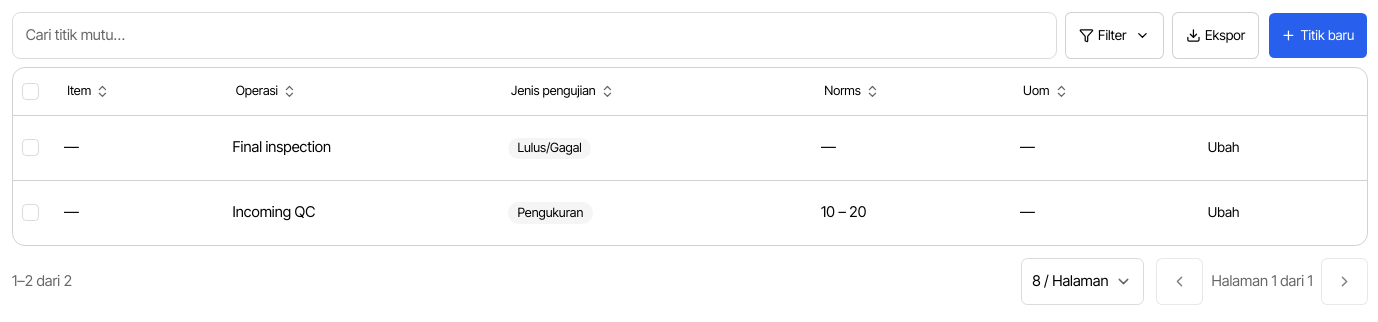
Test case: QualityPointsSection › filters points by search
Expected: the text "Final inspection" is shown, [224, 116, 500, 180]
Type "Incoming" into the search field with placeholder "Cari titik mutu…" at (534, 35), box [12, 12, 1057, 59]
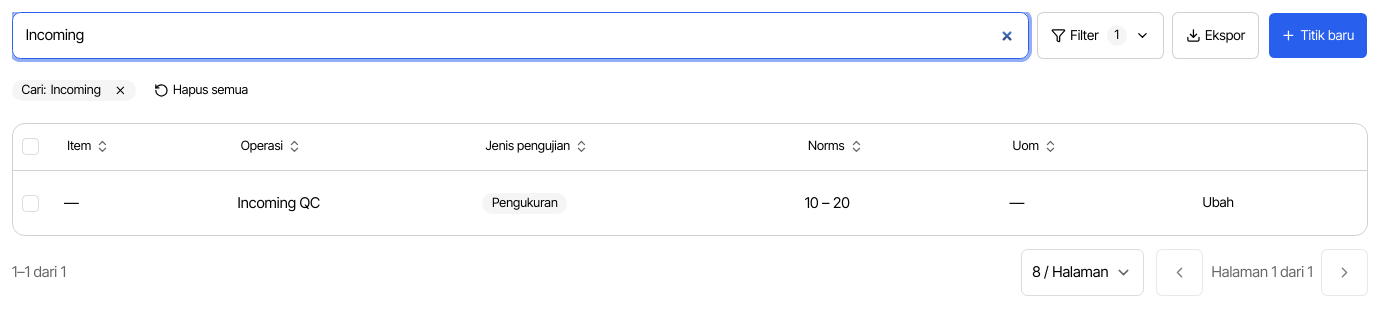
Expected: the text "Incoming QC" is shown, [229, 171, 474, 235]
Expected: the text "Final inspection" is gone
